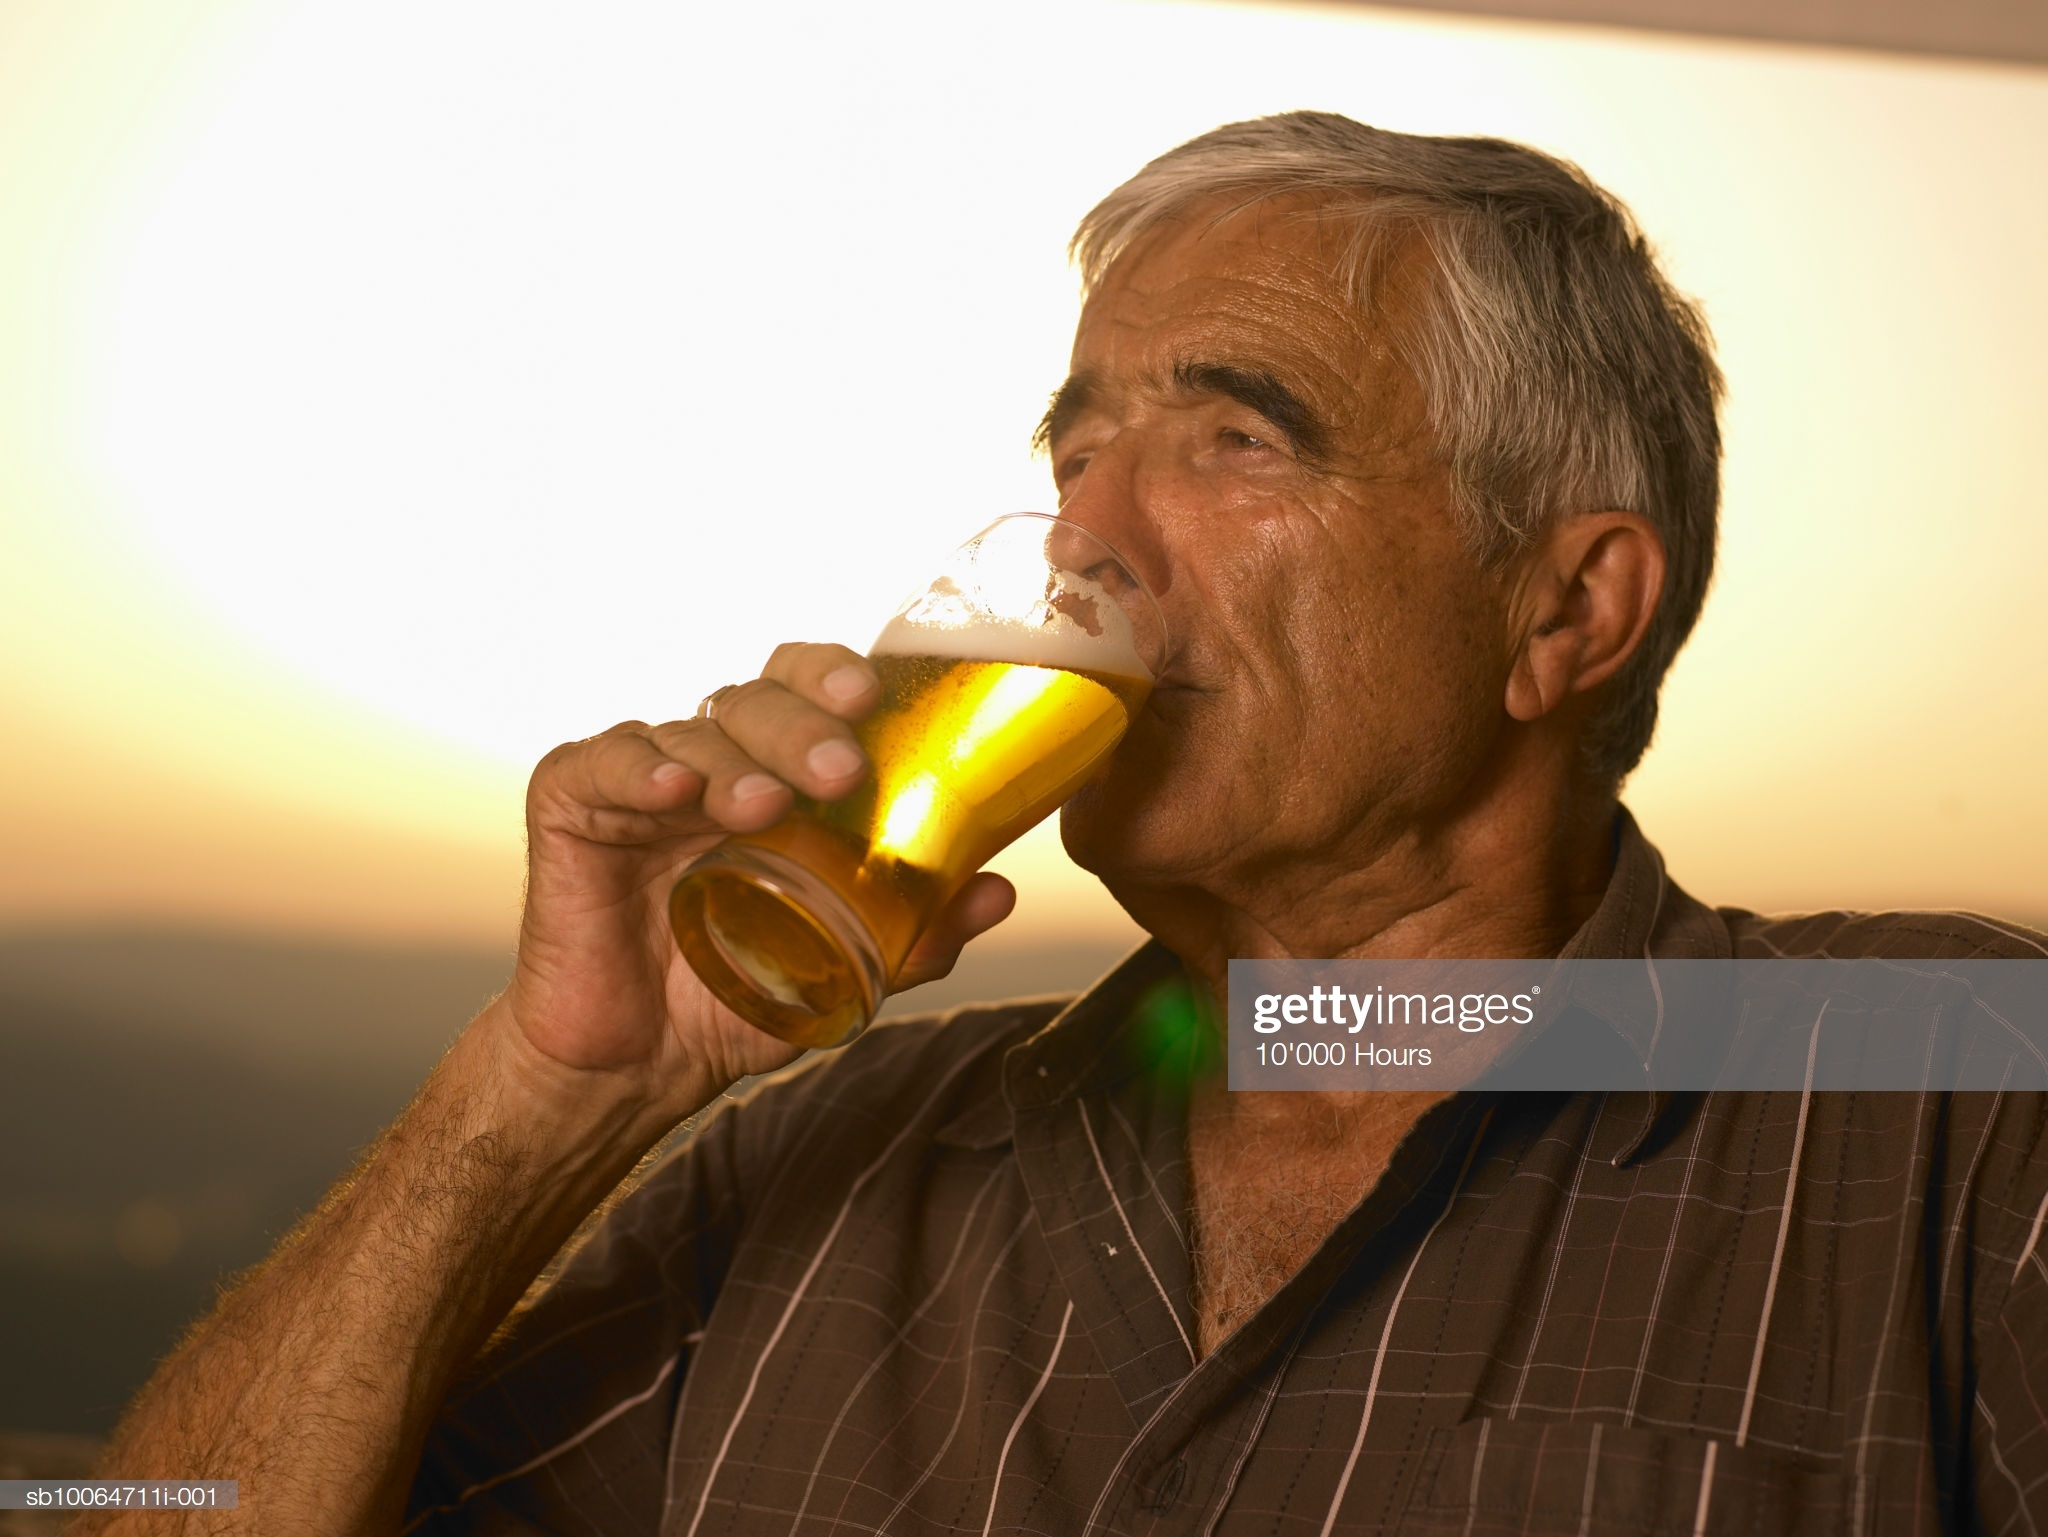glassBeer: (689, 521, 1141, 1037)
